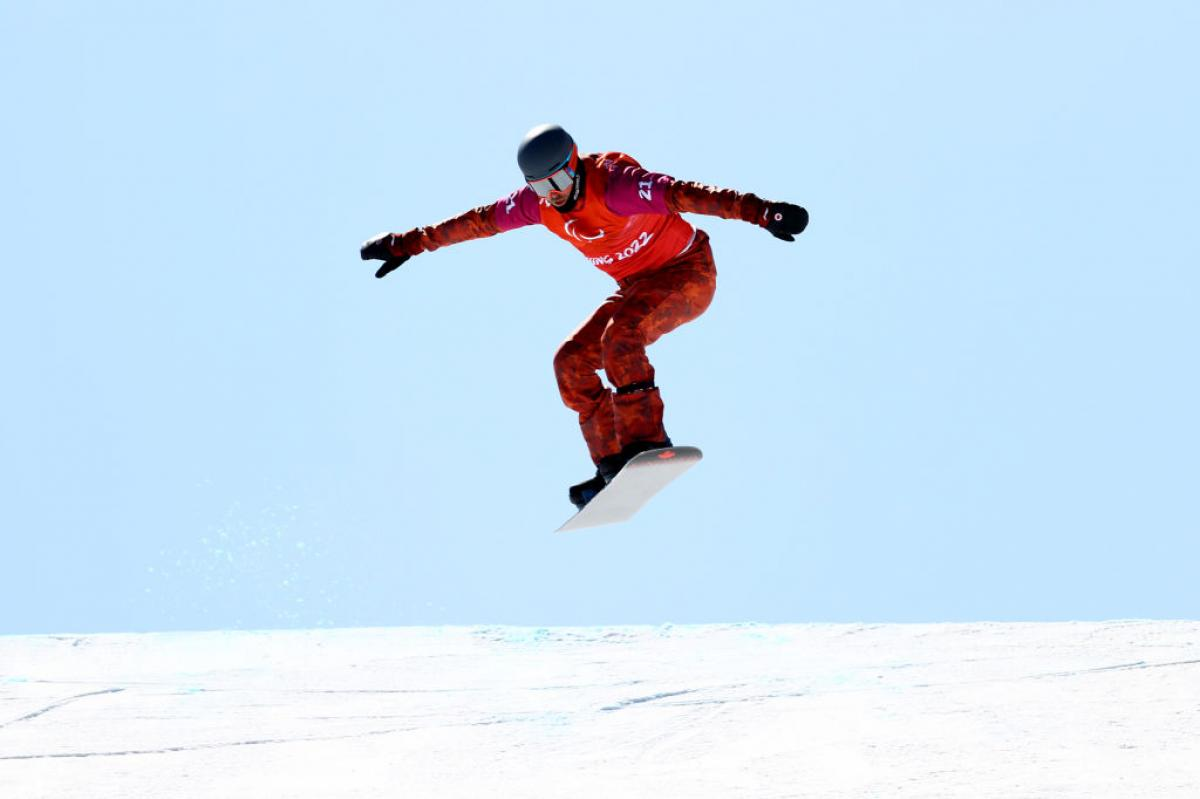snowboarder: (337, 125, 815, 536)
